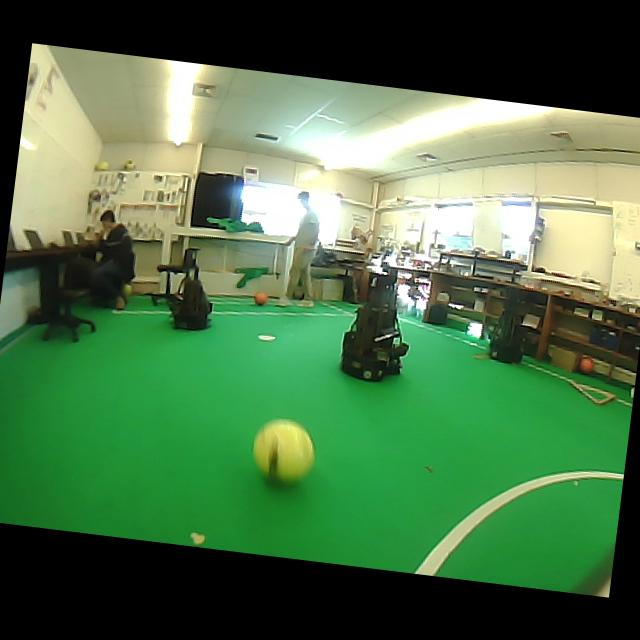ball: (253, 418, 314, 482), (578, 355, 594, 374), (121, 283, 131, 305), (254, 291, 267, 305), (95, 160, 110, 170), (122, 159, 135, 170)
robot: (339, 273, 408, 380), (169, 248, 211, 329), (489, 288, 522, 363)
